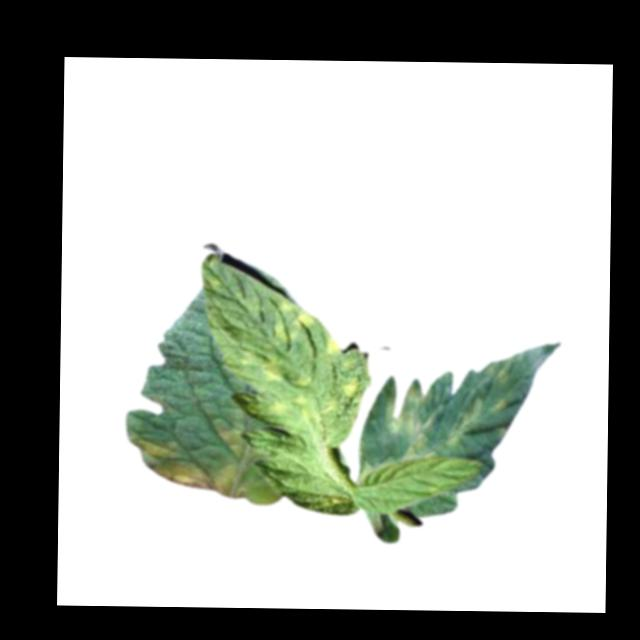Leaf_Mold: (383, 379, 434, 459), (148, 459, 239, 498), (273, 295, 316, 347), (131, 431, 179, 460), (218, 424, 253, 457), (261, 354, 285, 384), (340, 373, 361, 398), (269, 394, 290, 415), (326, 334, 341, 357)
